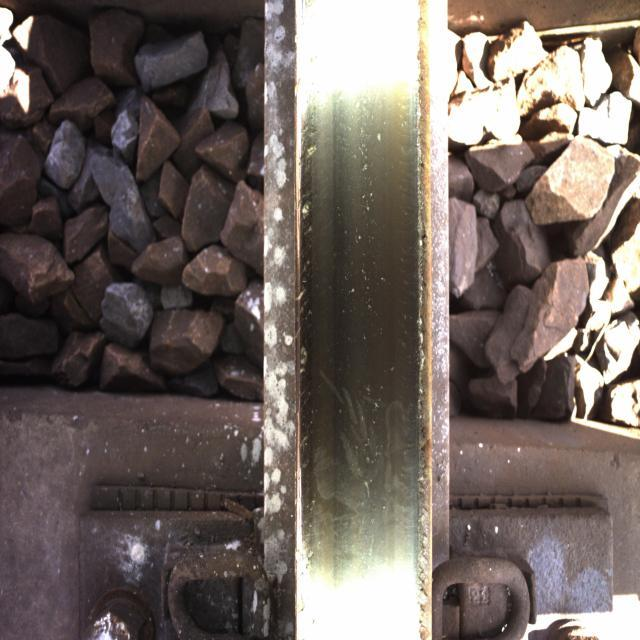scar: (293, 41, 402, 559)
